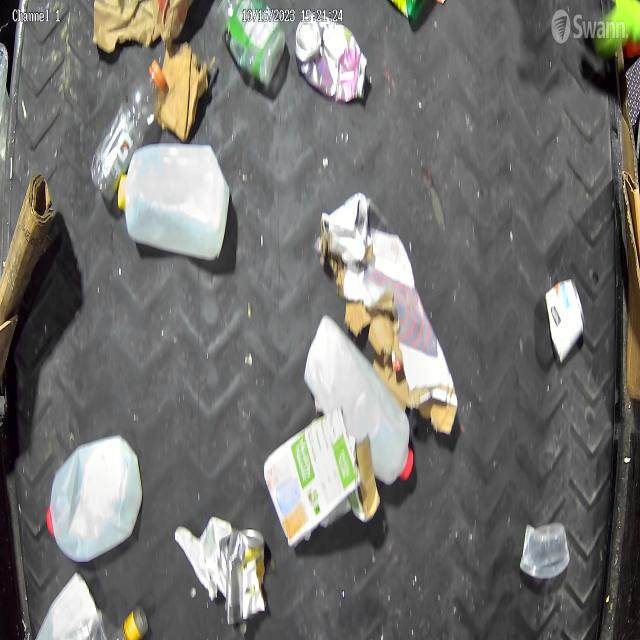can: (295, 15, 370, 105)
milk_jug: (303, 313, 417, 493), (115, 140, 232, 264), (44, 432, 144, 563), (227, 526, 264, 626)
plastic_bottle: (89, 58, 168, 202)
